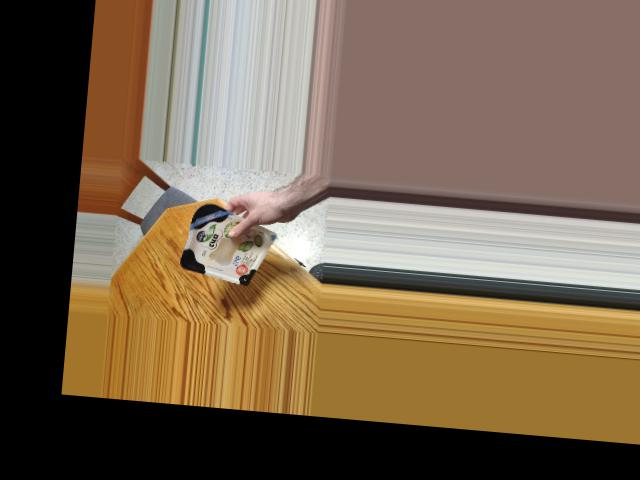cheese: (181, 204, 263, 284)
